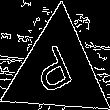P_SE: (32, 39, 82, 102)
